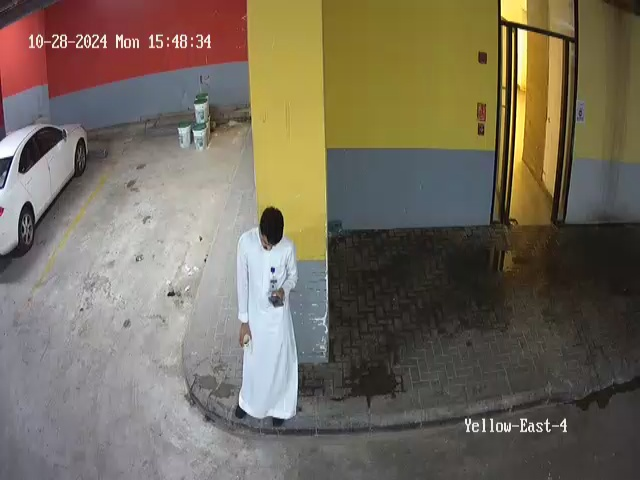male: (234, 207, 301, 427)
